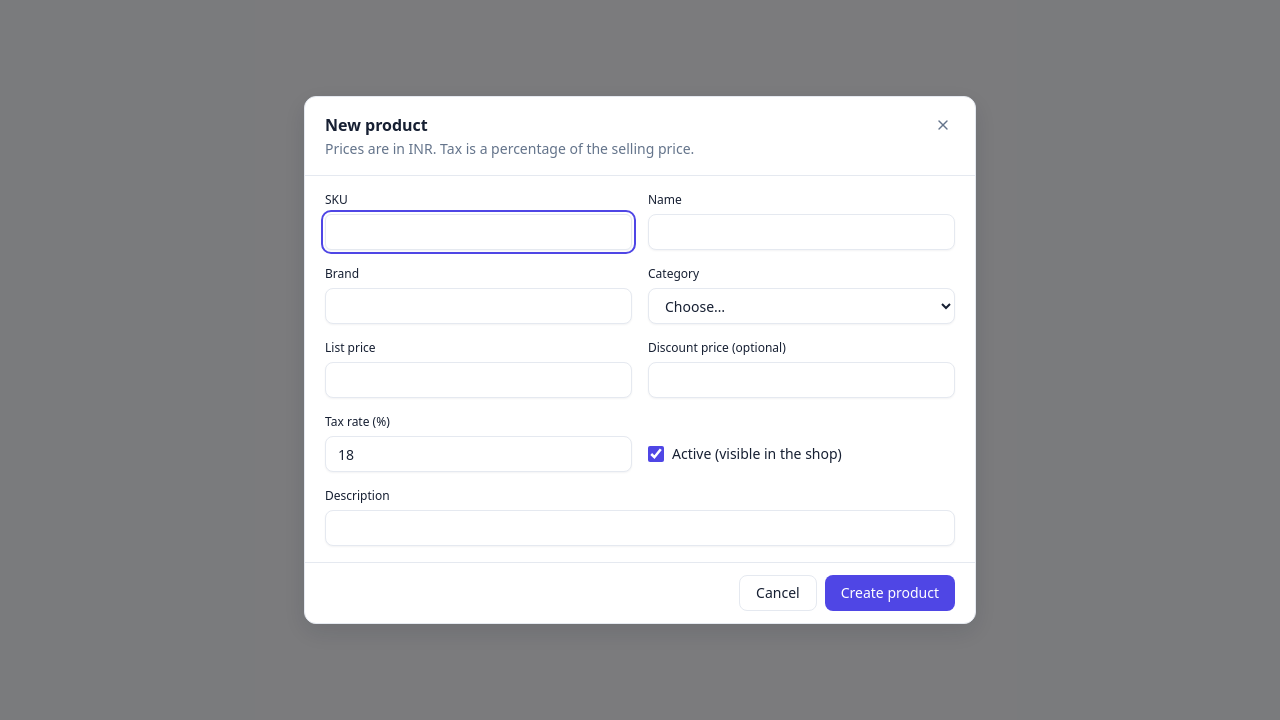
Scenario: ProductFormDialog › rejects a discount above the list price (mirrors the DB check constraint)
The width and height of the screenshot is (1280, 720).
Type "100" into the field labelled "List price" at {"x": 478, "y": 380}, box [325, 362, 632, 398]
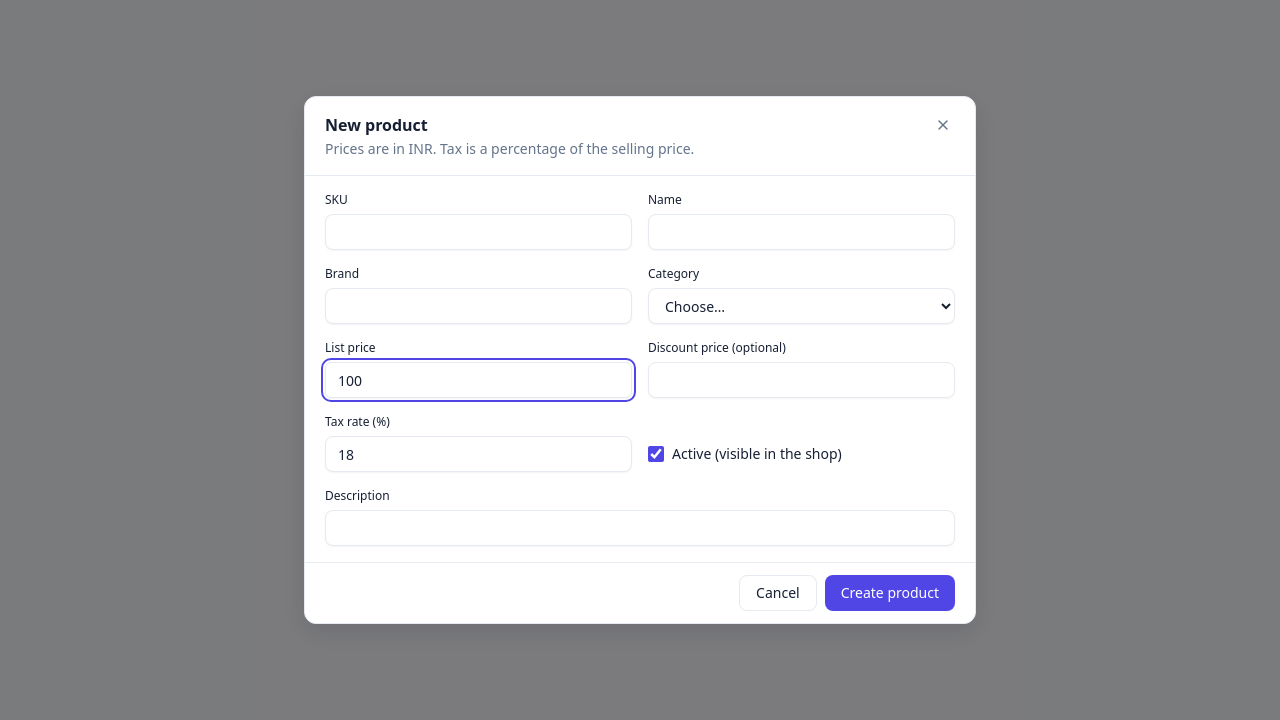
Type "150" into the field labelled "Discount price (optional)" at {"x": 802, "y": 380}, box [648, 362, 955, 398]
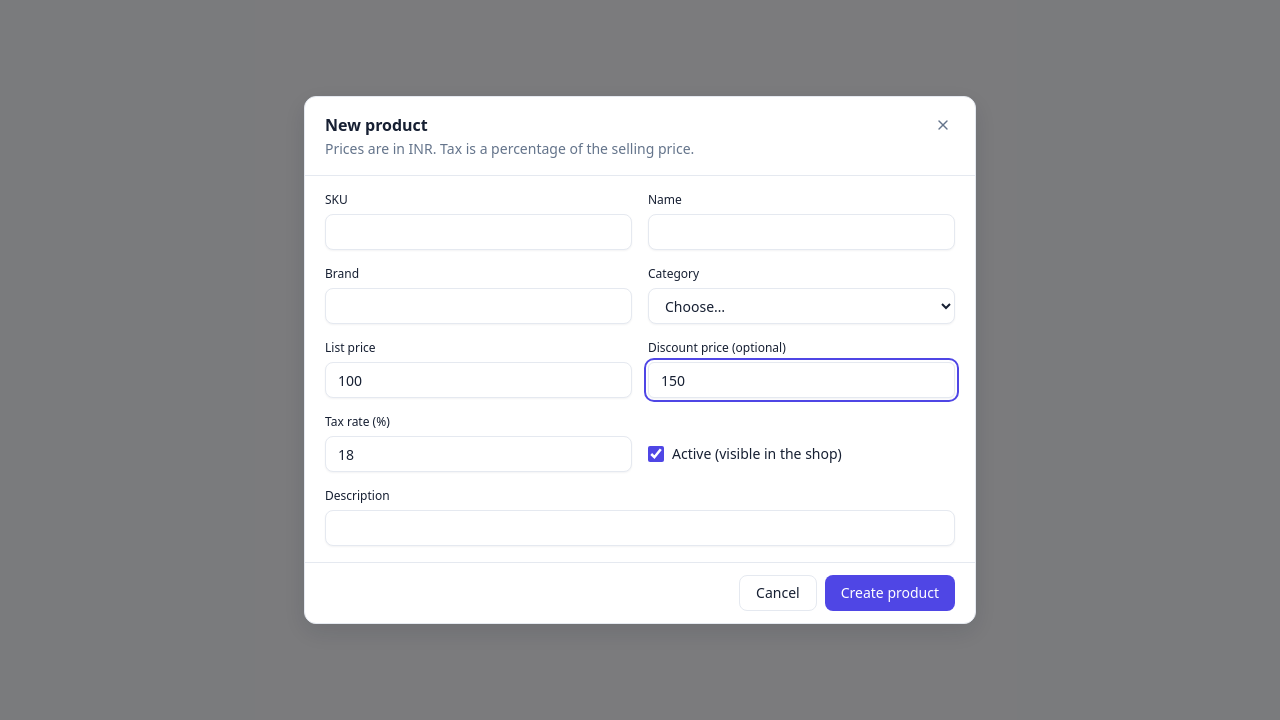
Click the button "Create product" at {"x": 890, "y": 593}, box [825, 575, 955, 611]
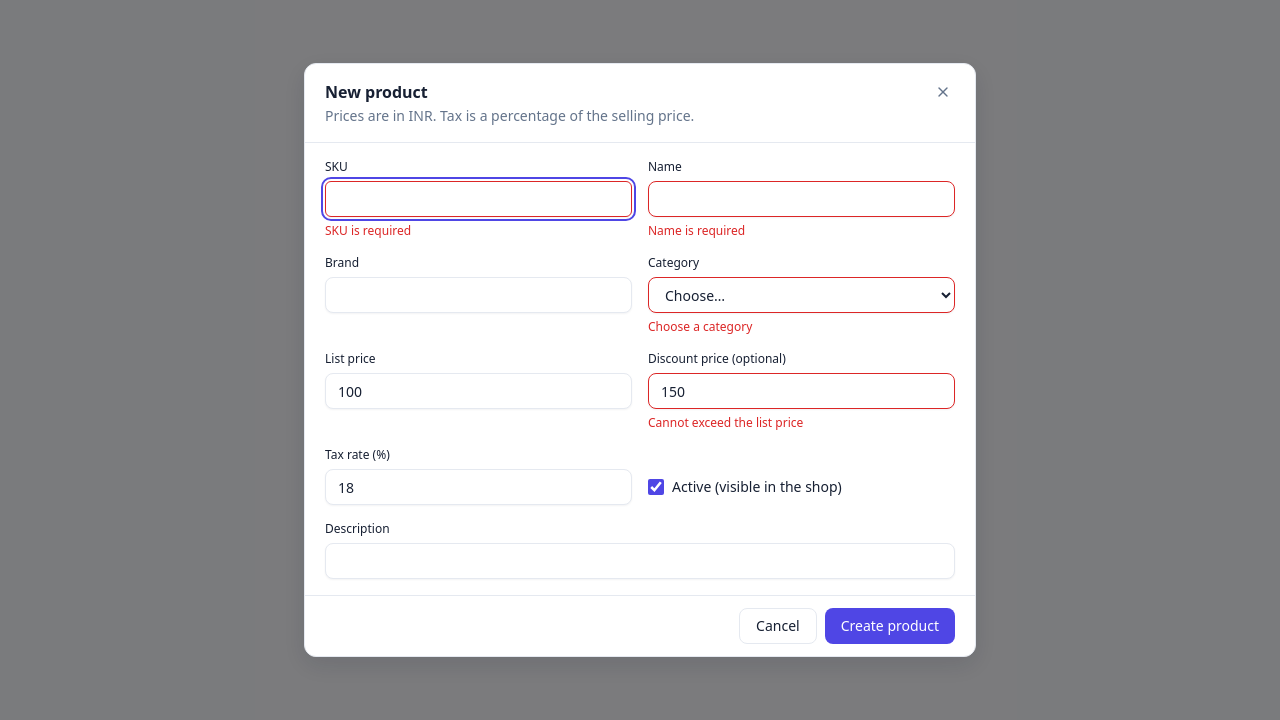
Check: the text "Cannot exceed the list price" is shown, box [648, 414, 803, 431]
